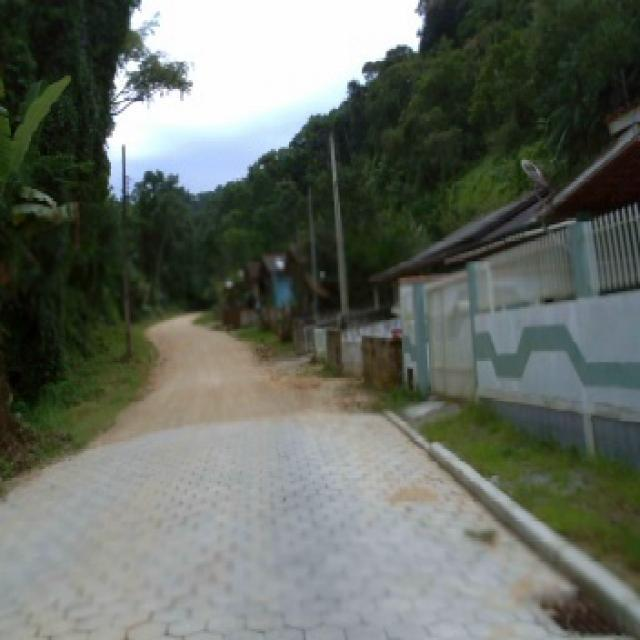Poth-hole: (529, 588, 629, 636)
